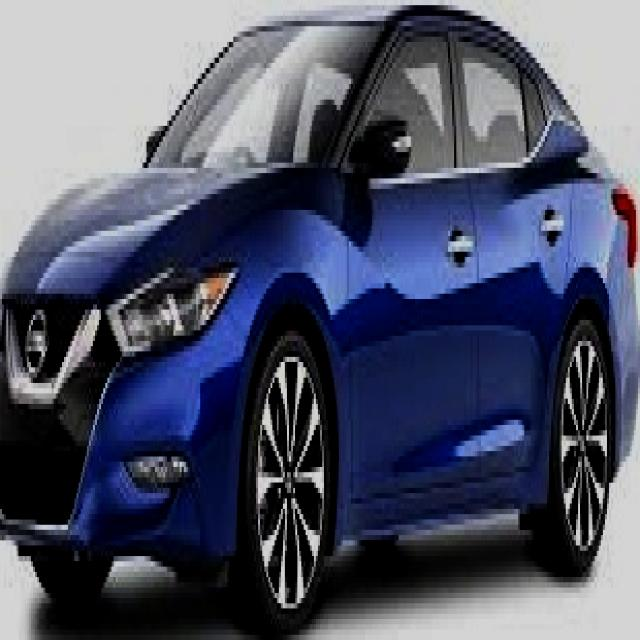blue: (0, 4, 640, 626)
